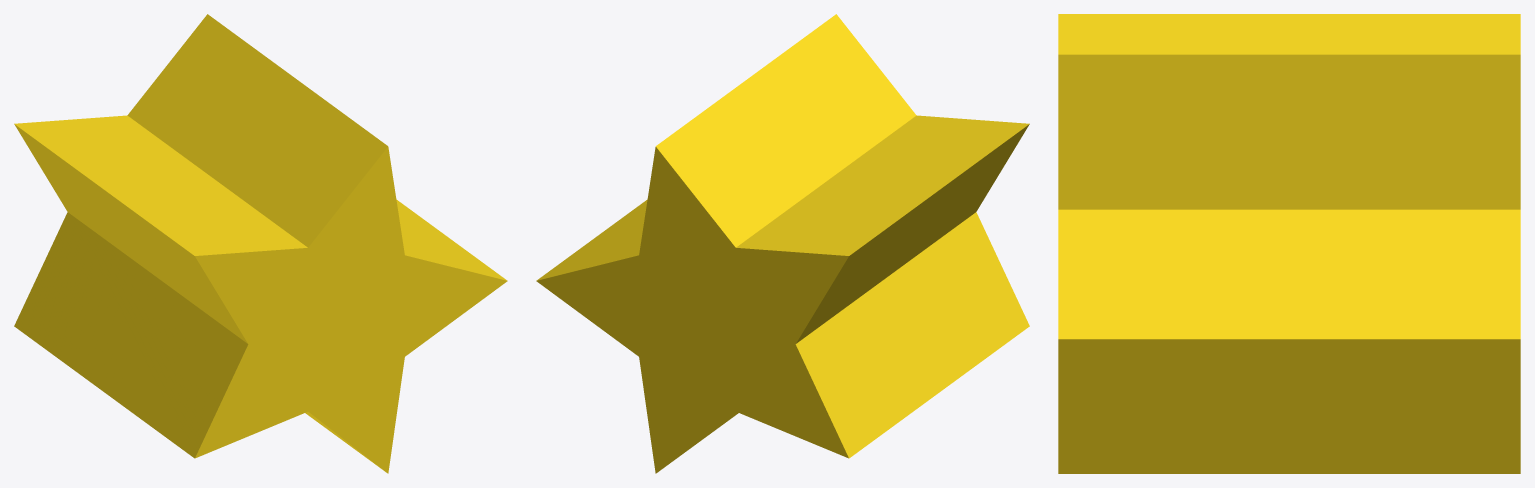
Rendered from tinker.obj.
3 views of the same model, side by side, from view 1: azimuth 30°, elevation 25°; view 2: azimuth 150°, elevation 25°; view 3: azimuth 270°, elevation 25° (orthographic). The views are drawn at different scales.
Parts seen in each view (by area): view 1: obj_0; view 2: obj_0; view 3: obj_0.
Boxes of the visible parts, left/top/right/bottom form: obj_0: left=14, top=14, right=507, bottom=473; obj_0: left=536, top=14, right=1029, bottom=473; obj_0: left=1058, top=14, right=1520, bottom=473.
Size of the model in its own units: 1 by 1 by 1.
